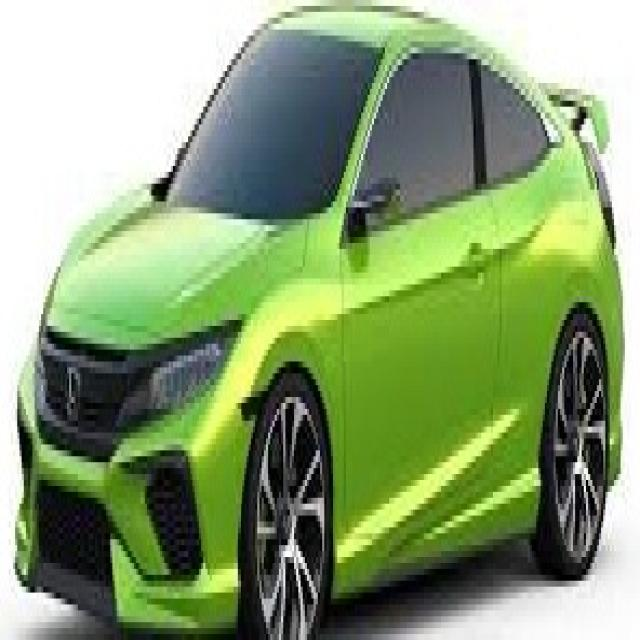green: (16, 0, 622, 640)
